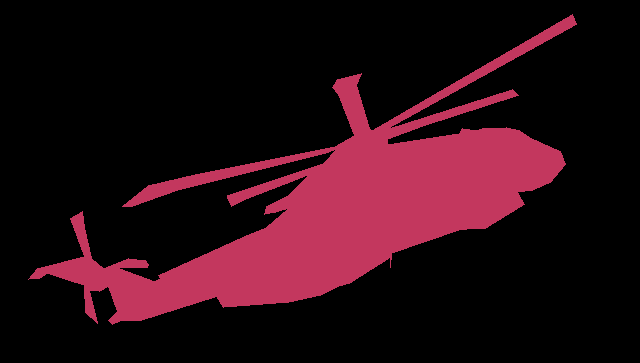Airplane: (28, 14, 576, 324)
